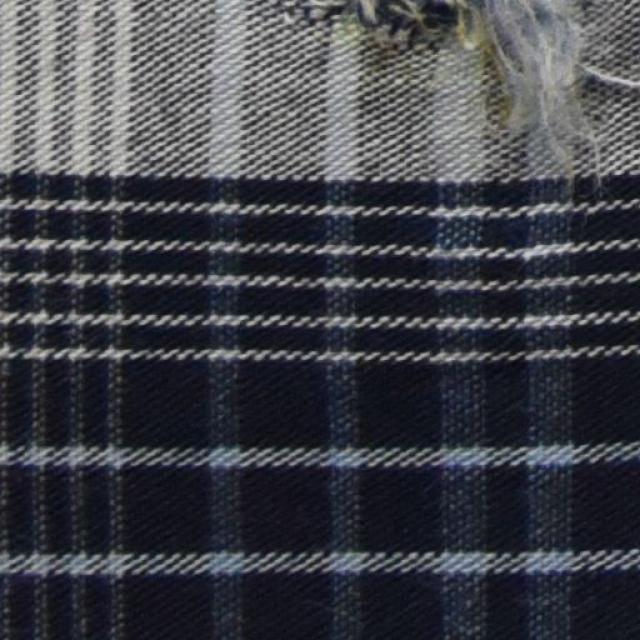Snag: (305, 0, 631, 155)
Stain: (363, 21, 513, 122)
